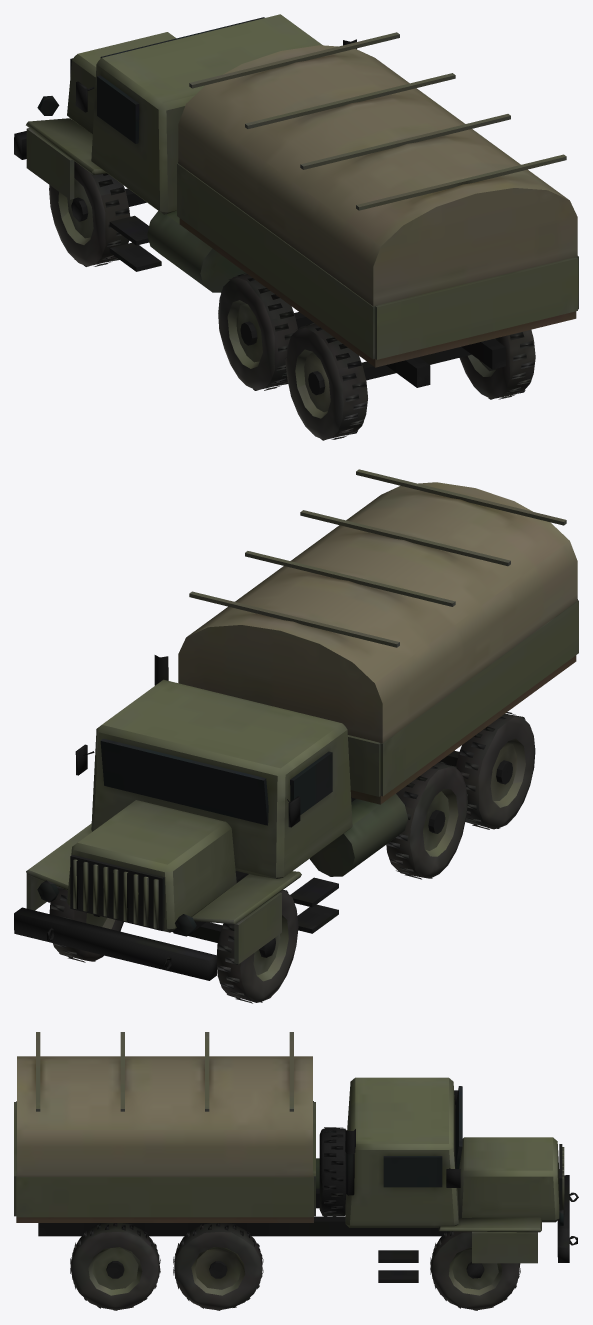
The model's file is truck_covered_lod1.glb.
The picture shows the model from 3 angles, top to bottom: view 1: azimuth 30°, elevation 25°; view 2: azimuth 150°, elevation 25°; view 3: azimuth 270°, elevation 25°; orthographic projection. The views are drawn at different scales.
Parts seen in each view (by area): view 1: body; view 2: body; view 3: body.
Part boxes in pixels (x1,y1,x2,y2): body: (14, 14, 578, 440); body: (14, 469, 578, 1003); body: (14, 1032, 578, 1310).
Size of the model in its own units: 2.57 by 3.09 by 7.69.
1 material, 1 textured.
